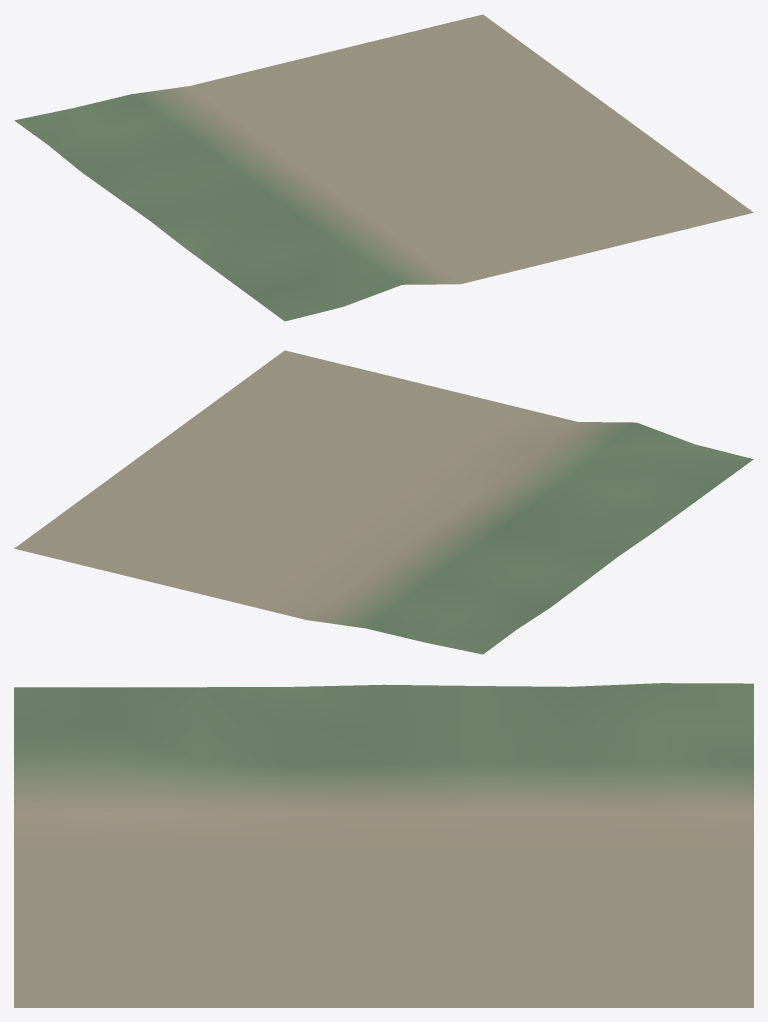
3 renders of one model, top to bottom at view 1: azimuth 30°, elevation 25°; view 2: azimuth 150°, elevation 25°; view 3: azimuth 270°, elevation 25°, orthographic. The views are drawn at different scales.
Parts seen in each view (by area): view 1: Lo; view 2: Lo; view 3: Lo.
Part boxes in pixels (bbox=[...]): Lo: bbox=[14, 14, 753, 321]; Lo: bbox=[14, 350, 753, 654]; Lo: bbox=[14, 683, 753, 1007].
Bounding box in the file's own units: 256 × 7.14 × 256.
